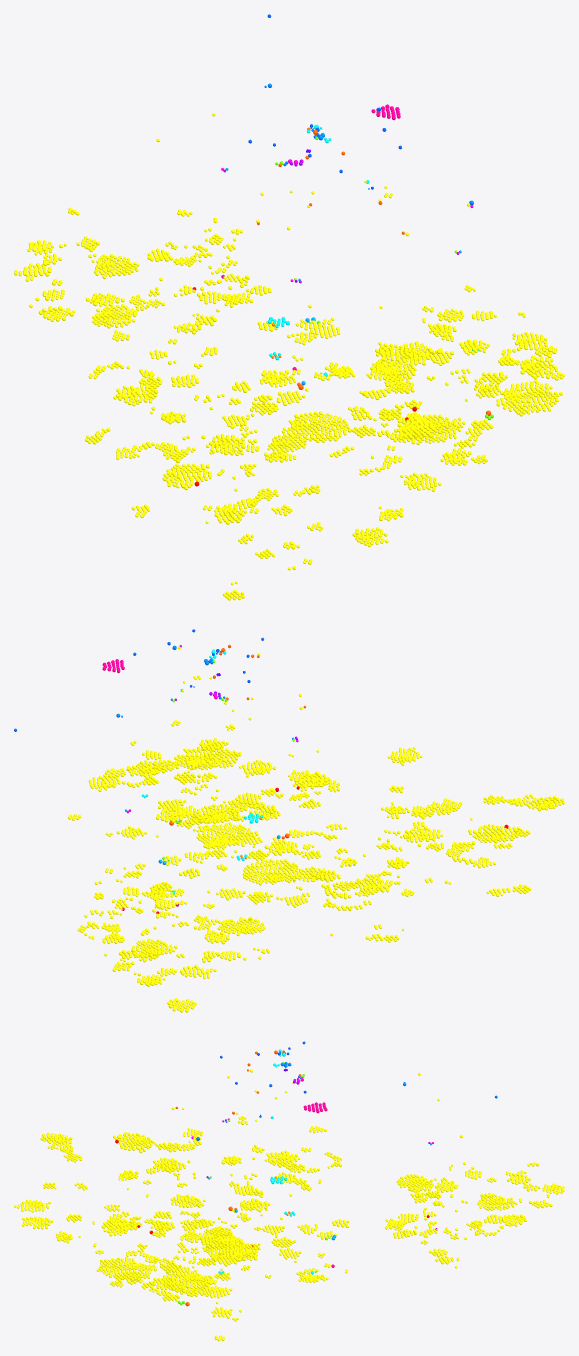
The model's file is task-ef0893f22-layout.gltf.
3 renders of one model, top to bottom at view 1: azimuth 30°, elevation 25°; view 2: azimuth 150°, elevation 25°; view 3: azimuth 270°, elevation 25°, orthographic. The views are drawn at different scales.
Parts seen in each view (by area): view 1: normal_java_files; view 2: normal_java_files; view 3: normal_java_files.
Boxes of the visible parts, x1,y1,x2,y2 form: normal_java_files: (14,113,564,600); normal_java_files: (68,646,564,1012); normal_java_files: (14,1069,564,1341).
Bounding box in the file's own units: 360 × 236 × 473.
